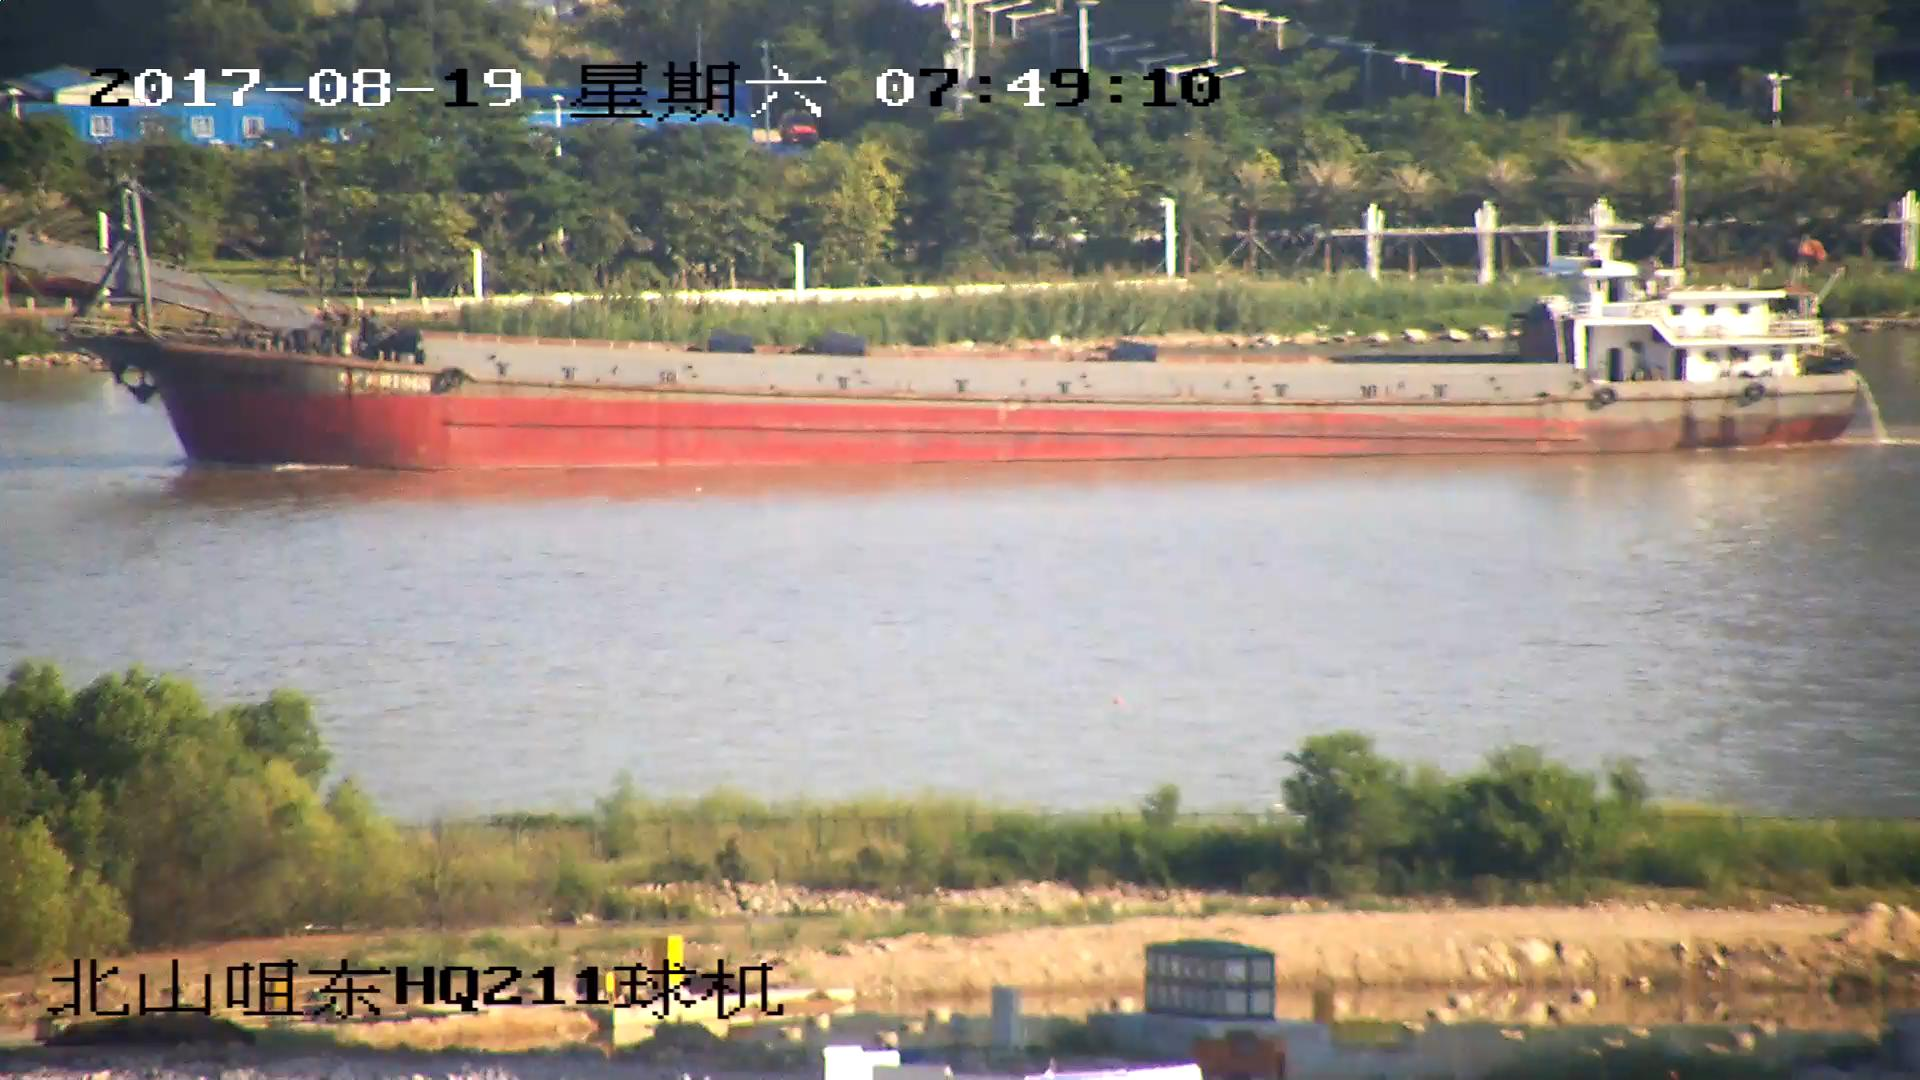bulk cargo carrier: (1, 183, 1865, 469)
